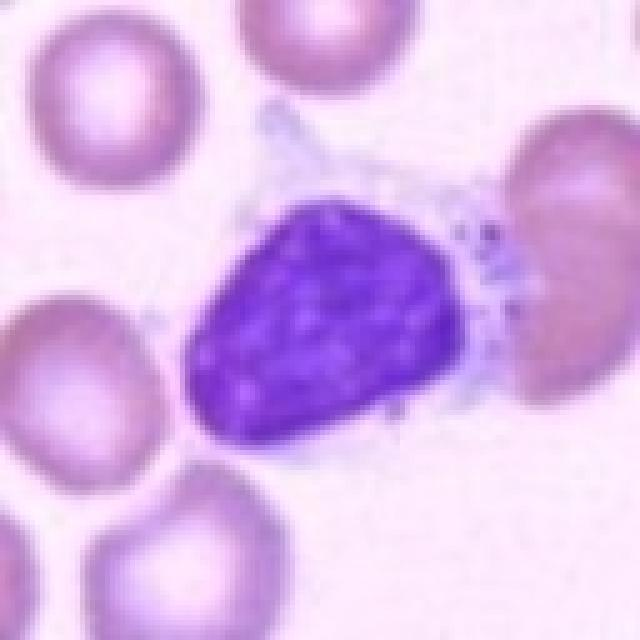lympho: (137, 100, 544, 479)
